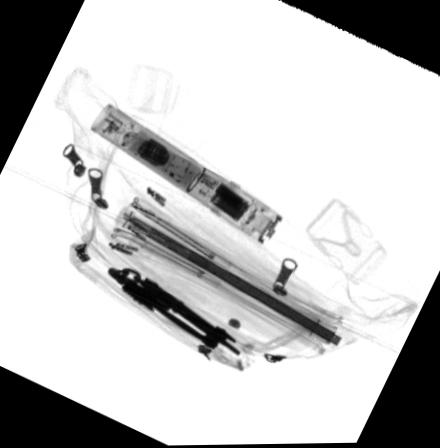Baton: (87, 102, 285, 247)
HandCuffs: (103, 266, 242, 358)
